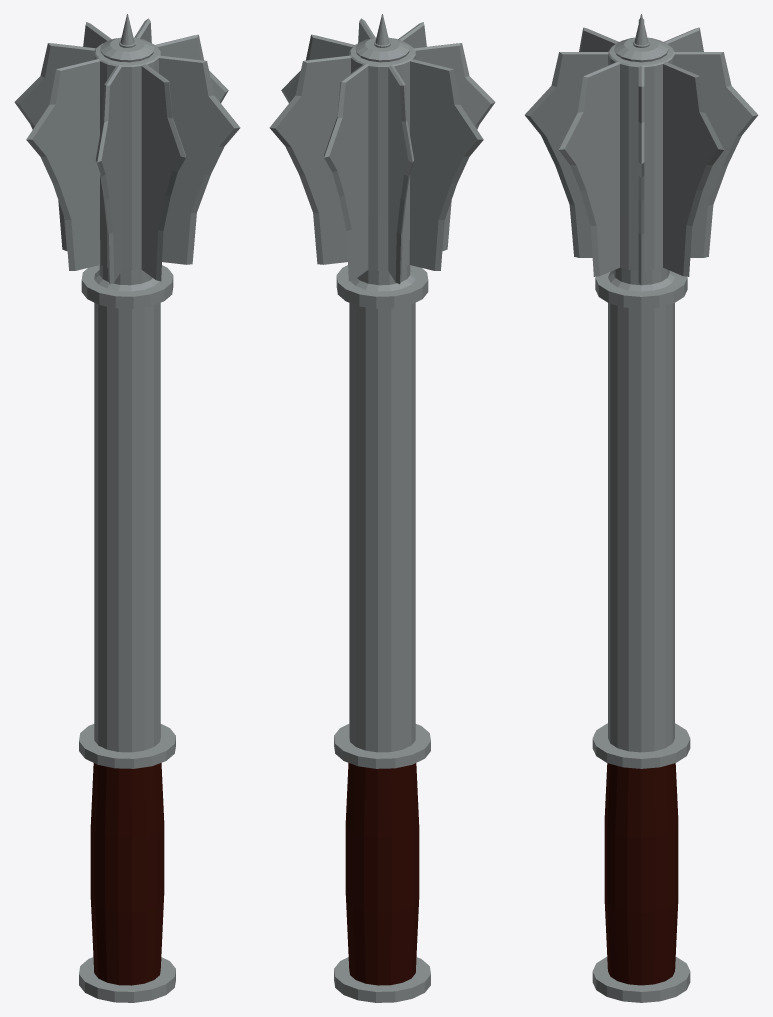
The model's file is MaceFinal.fbx.
3 views of the same model, side by side, from view 1: azimuth 30°, elevation 25°; view 2: azimuth 150°, elevation 25°; view 3: azimuth 270°, elevation 25° (orthographic).
Parts seen in each view (by area): view 1: Mace - Handle, Mace - Head; view 2: Mace - Handle, Mace - Head; view 3: Mace - Handle, Mace - Head.
Part boxes in pixels (bbox=[...]): Mace - Handle: bbox=[79, 303, 175, 1002]; Mace - Head: bbox=[14, 14, 240, 308]; Mace - Handle: bbox=[334, 303, 430, 1002]; Mace - Head: bbox=[269, 14, 495, 308]; Mace - Handle: bbox=[592, 303, 690, 1002]; Mace - Head: bbox=[525, 14, 757, 308].
Bounding box in the file's own units: 14 × 64.11 × 14.
